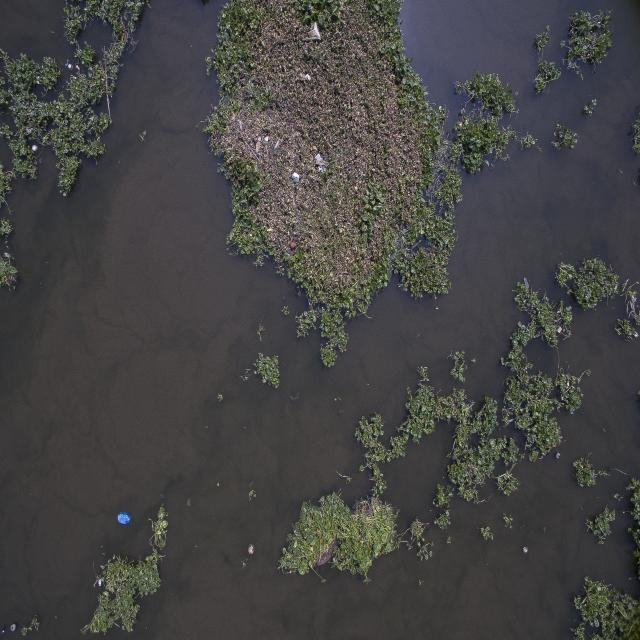plastic: (310, 147, 330, 183), (307, 14, 323, 47), (115, 506, 134, 533), (28, 138, 44, 159), (290, 168, 302, 186), (302, 70, 314, 86), (66, 59, 76, 75), (33, 73, 42, 87), (237, 119, 245, 133), (274, 138, 281, 152), (555, 326, 564, 336), (263, 133, 271, 143)
